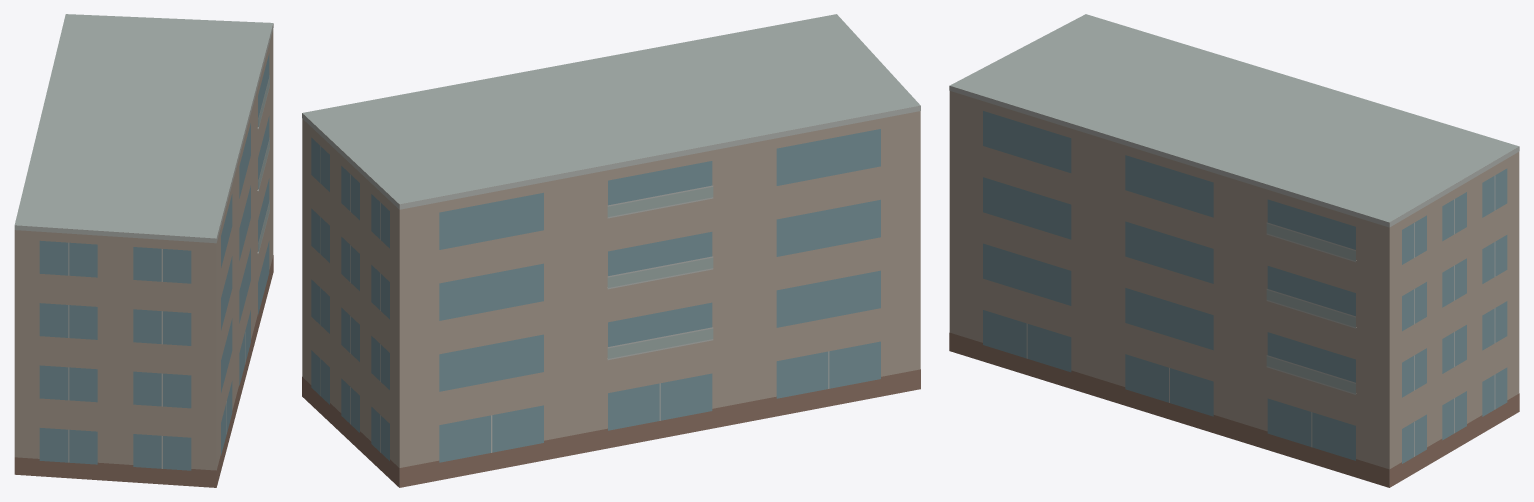
Rendered from survey-upis-32631780.glb.
The picture shows the model from 3 angles, left to right: view 1: azimuth 30°, elevation 25°; view 2: azimuth 150°, elevation 25°; view 3: azimuth 270°, elevation 25°; orthographic projection. The views are drawn at different scales.
Visible parts, largest first — view 1: survey-upis-32631780.tmp; view 2: survey-upis-32631780.tmp; view 3: survey-upis-32631780.tmp.
Boxes of the visible parts, bbox=[...] form: survey-upis-32631780.tmp: bbox=[14, 14, 273, 487]; survey-upis-32631780.tmp: bbox=[302, 14, 920, 487]; survey-upis-32631780.tmp: bbox=[949, 14, 1519, 487].
Size of the model in its own units: 21.58 by 12.8 by 24.92.
